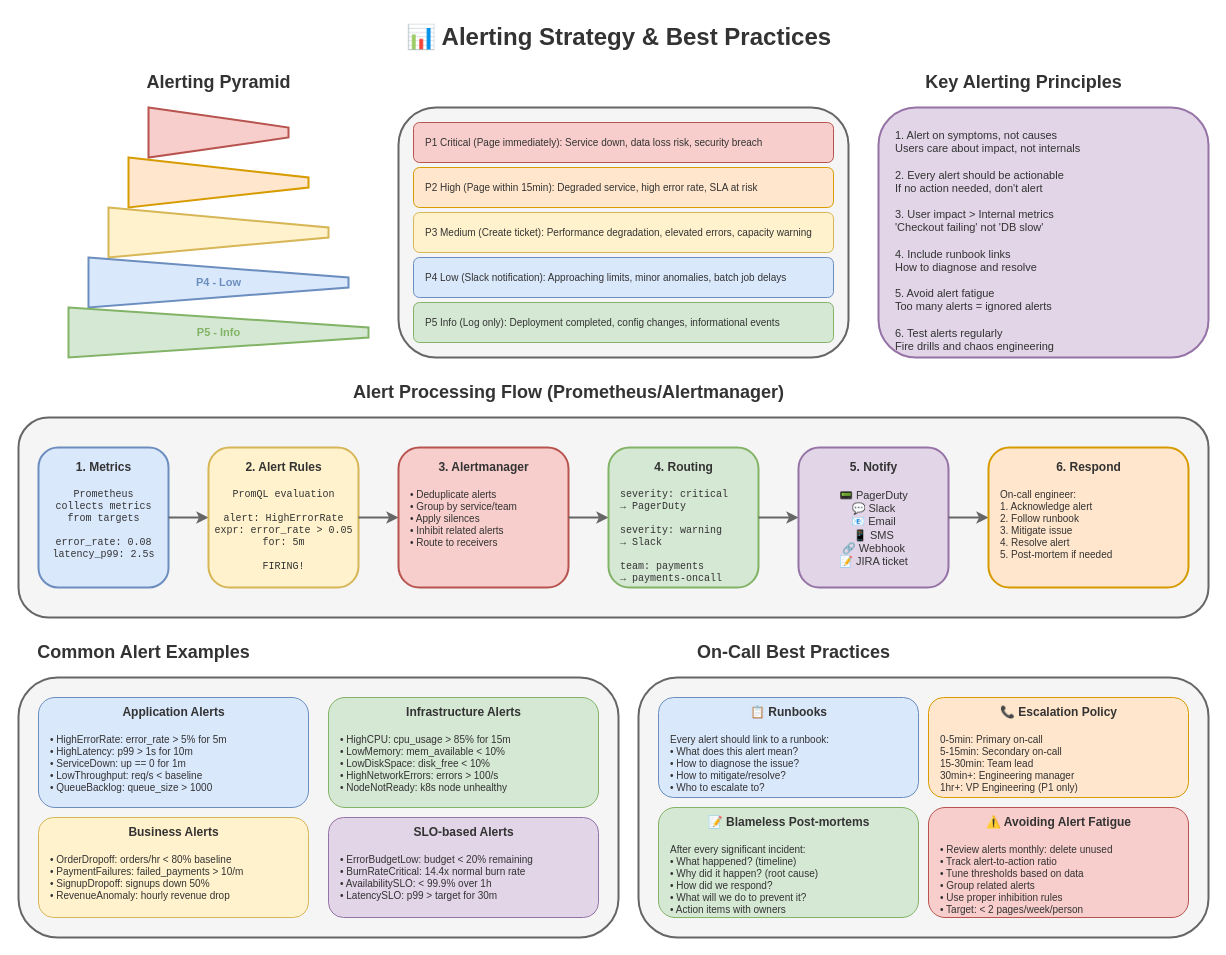
Image size: 1226x955. Some labels were removed from this diagram. The centre of each missing label's shape, as x and y in pixels:
"P1 - Critical" goes at point (218, 132).
"P2 - High" goes at point (218, 182).
"P3 - Medium" goes at point (218, 232).
